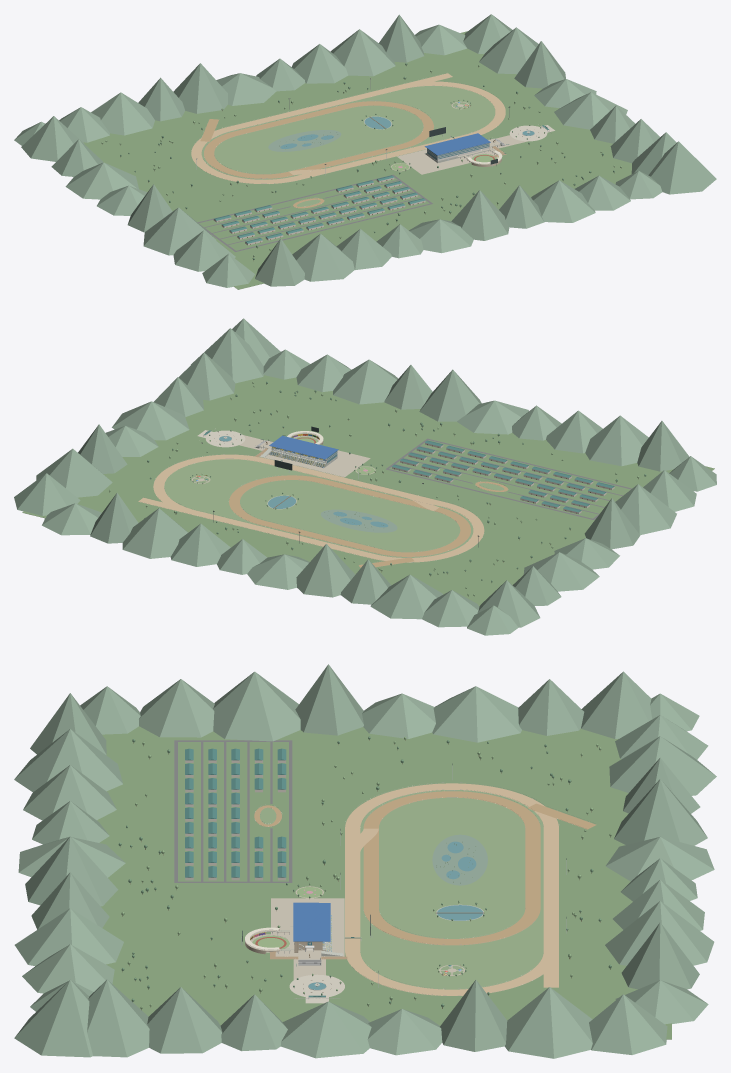
Rendered from park.glb.
The picture shows the model from 3 angles, top to bottom: view 1: azimuth 30°, elevation 25°; view 2: azimuth 150°, elevation 25°; view 3: azimuth 270°, elevation 25°; orthographic projection. The views are drawn at different scales.
Parts seen in each view (by area): view 1: mountain, grass, grass2, Key_Outer_racing_course, Key_Inner_racing_course, Occluder_teal, asphalt, barn, paving, wetland, Occluder_roofblue, water (+2 smaller); view 2: mountain, grass, grass2, Key_Outer_racing_course, Key_Inner_racing_course, Occluder_teal, asphalt, barn, paving, wetland, Occluder_roofblue, water (+2 smaller); view 3: mountain, grass, grass2, Key_Outer_racing_course, Key_Inner_racing_course, Occluder_teal, asphalt, paving, wetland, Occluder_roofblue, water, barn (+5 smaller).
Boxes of the visible parts, x1,y1,x2,y2 form: mountain: (14,14,716,287); grass: (83,31,631,289); grass2: (201,86,495,206); Key_Outer_racing_course: (191,81,505,183); Key_Inner_racing_course: (204,101,433,178); Occluder_teal: (214,175,425,243); asphalt: (197,174,432,251); barn: (213,177,425,245); paving: (391,101,527,174); wetland: (268,130,341,151); Occluder_roofblue: (425,133,490,155); water: (280,116,534,148); mountain: (14,318,716,635); grass: (22,375,714,606); grass2: (164,459,504,557); Key_Outer_racing_course: (153,454,484,562); Key_Inner_racing_course: (229,475,470,556); Occluder_teal: (392,440,614,512); asphalt: (386,438,631,519); barn: (392,443,614,514); paving: (192,435,375,483); wetland: (320,509,397,532); Occluder_roofblue: (269,435,338,459); water: (219,436,388,527); mountain: (14,664,716,1058); grass: (97,726,671,1039); grass2: (260,790,543,989); Key_Outer_racing_course: (345,783,558,995); Key_Inner_racing_course: (363,791,540,945); Occluder_teal: (185,748,286,877); asphalt: (174,740,292,882); paving: (250,886,464,979); wetland: (432,834,487,885); Occluder_roofblue: (293,902,330,941); water: (308,841,483,989); barn: (185,760,285,880).
Bounding box in the file's own units: 1485 × 106 × 1215.
